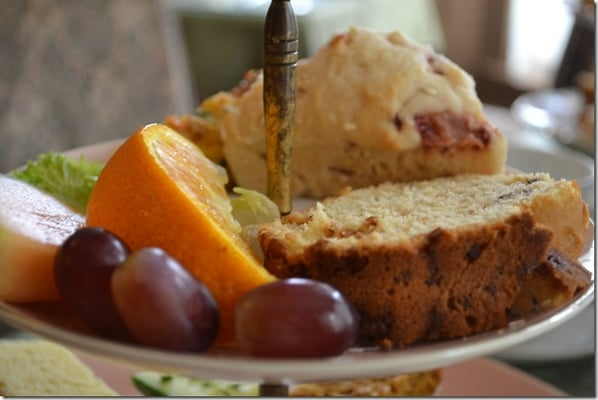pizza: (436, 1, 579, 95)
